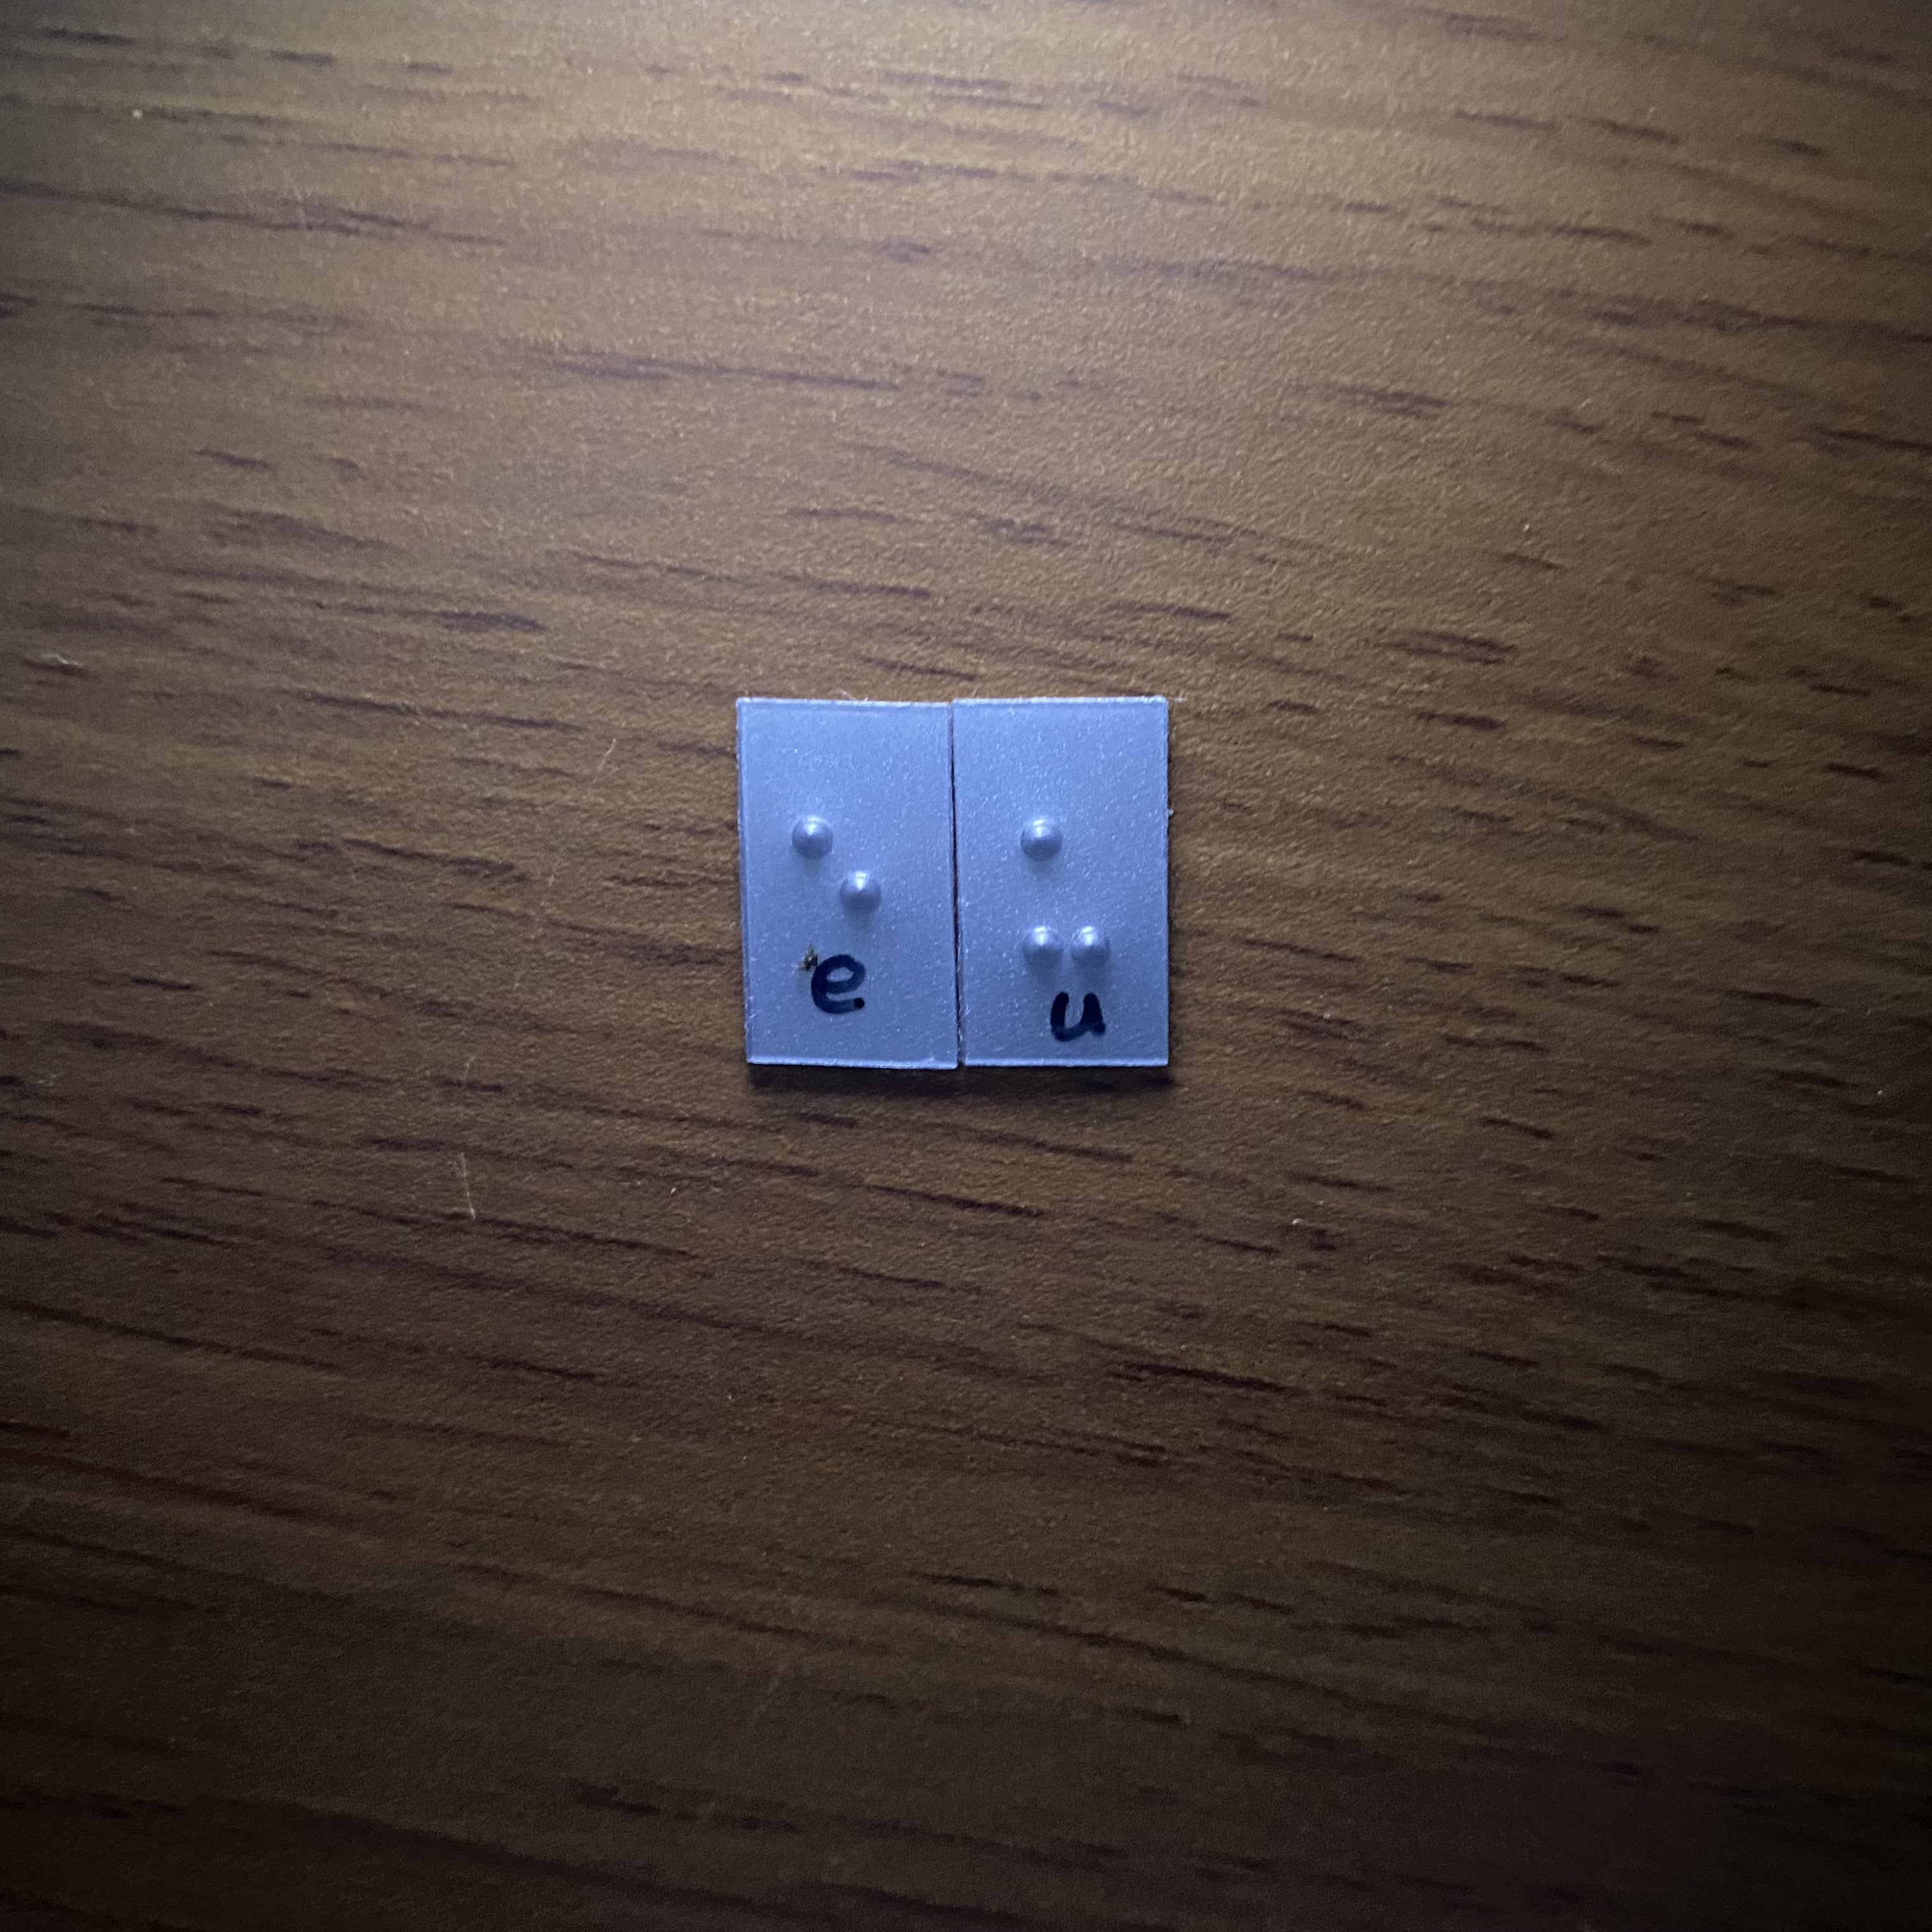e: (776, 799, 897, 1000)
u: (981, 797, 1128, 1007)
